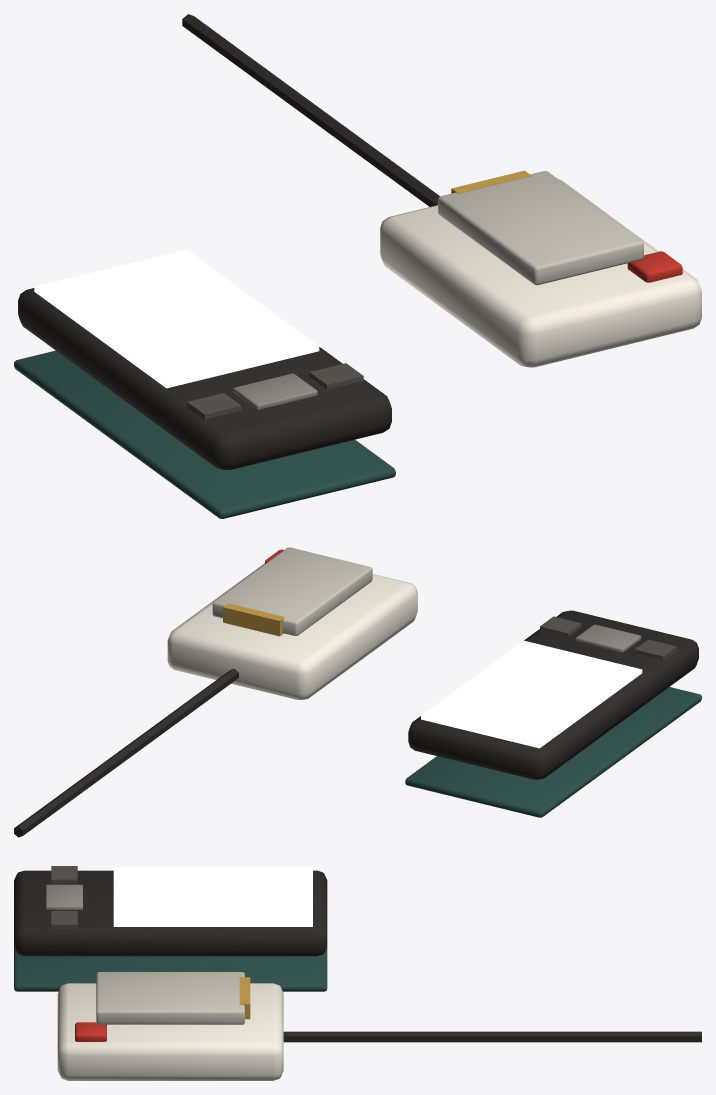
The model's file is phone.glb.
3 renders of one model, top to bottom at view 1: azimuth 30°, elevation 25°; view 2: azimuth 150°, elevation 25°; view 3: azimuth 270°, elevation 25°, orthographic. The views are drawn at different scales.
Visible parts, largest first — view 1: phone.001, charger, cover, battery; view 2: phone.001, charger, cover, battery; view 3: phone.001, charger, battery, cover.
Part boxes in pixels (x1,y1,x2,y2): phone.001: [18, 249, 391, 469]; charger: [182, 14, 701, 367]; cover: [14, 350, 395, 518]; battery: [438, 170, 643, 285]; phone.001: [408, 610, 698, 779]; charger: [14, 549, 417, 837]; cover: [405, 687, 701, 817]; battery: [212, 547, 372, 636]; phone.001: [14, 866, 327, 956]; charger: [57, 983, 701, 1080]; battery: [96, 972, 250, 1024]; cover: [14, 947, 327, 991].
Bounding box in the file's own units: 0.169 × 0.0386 × 0.259.
